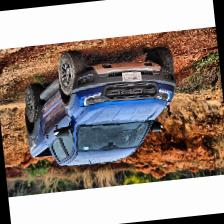NON-EV: (20, 42, 186, 182)
